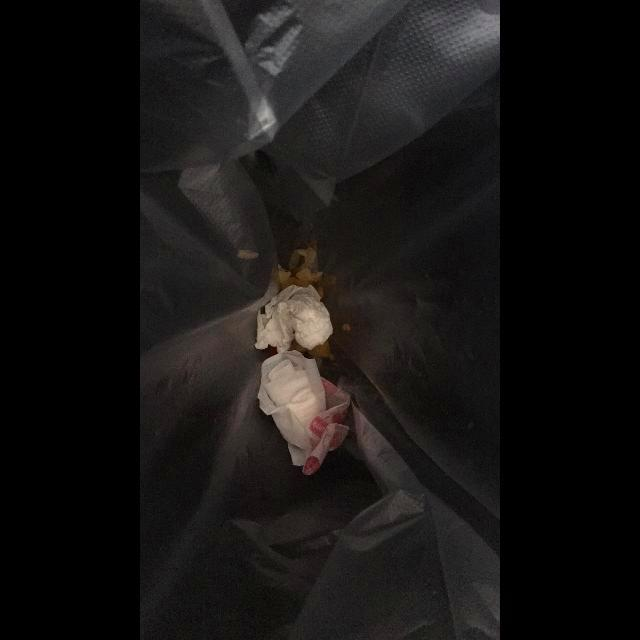paper: (257, 350, 351, 476), (254, 285, 333, 353)
